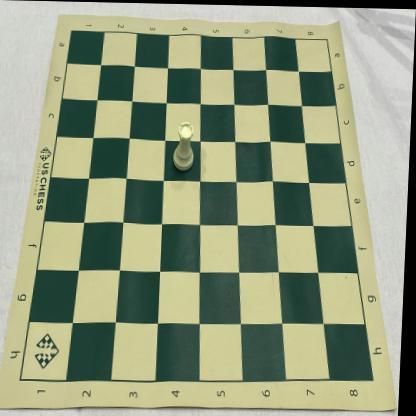white-rook: (174, 121, 197, 172)
